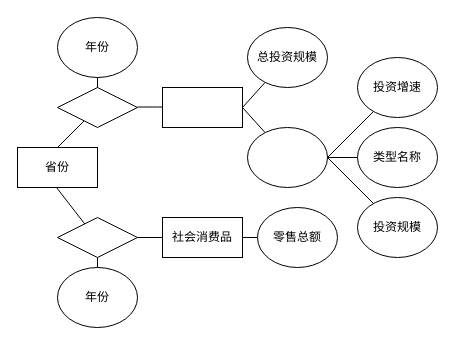
Image size: 455x345. Some labels were removed from this diagram. The shapes that lost their labels are listed below. From the top down, each one's box as (x1, y1, x2, y2) in pixels, then its label:
(56, 86, 138, 128): 投资
(162, 86, 242, 128): 固定资产
(246, 126, 328, 188): 经济类型
(56, 216, 138, 258): 销售
